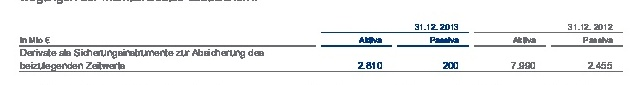table: (0, 0, 634, 85)
